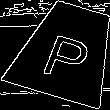P_N: (38, 21, 96, 81)
